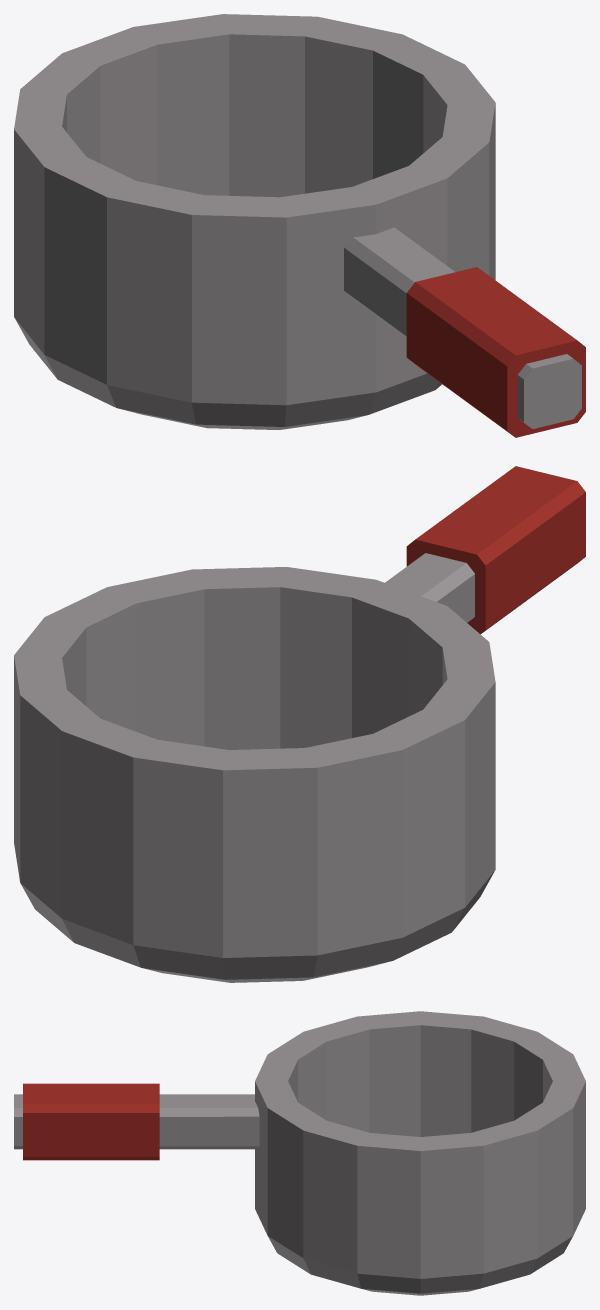
File: pot_deep.fbx
3 views of the same model, one above another, from view 1: azimuth 30°, elevation 25°; view 2: azimuth 150°, elevation 25°; view 3: azimuth 270°, elevation 25° (orthographic). The views are drawn at different scales.
Parts seen in each view (by area): view 1: Cylinder.025; view 2: Cylinder.025; view 3: Cylinder.025.
Part boxes in pixels (left/top/right/bottom): Cylinder.025: left=14, top=14, right=585, bottom=437; Cylinder.025: left=14, top=466, right=585, bottom=982; Cylinder.025: left=14, top=1011, right=585, bottom=1295.
Size of the model in its own units: 73.61 by 40.81 by 127.
